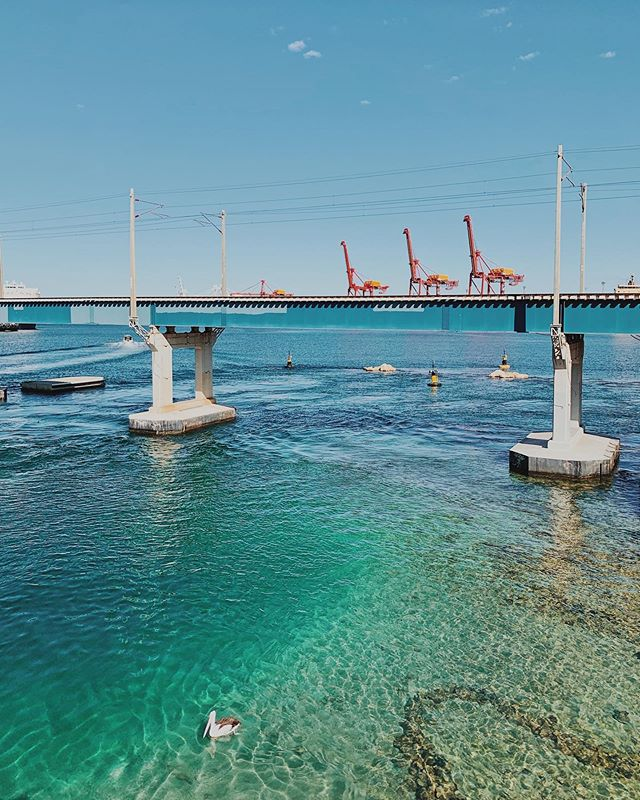animal: (195, 707, 246, 743)
bridge: (3, 255, 636, 441)
crane: (457, 198, 520, 302), (390, 227, 451, 297), (333, 232, 394, 302)
sea: (1, 343, 625, 800)
sky: (1, 1, 640, 268)
